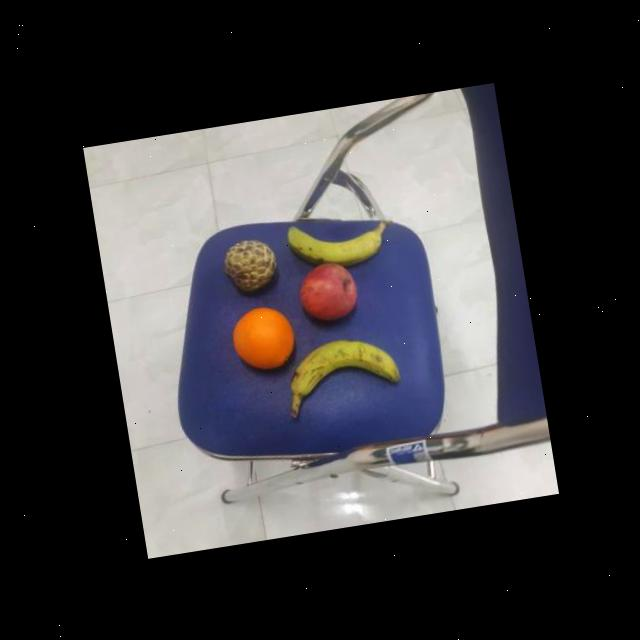Sakya fruit: (214, 230, 282, 296)
apple: (291, 255, 363, 325)
banana: (276, 331, 404, 404), (277, 210, 388, 276)
orange: (223, 298, 300, 374)
